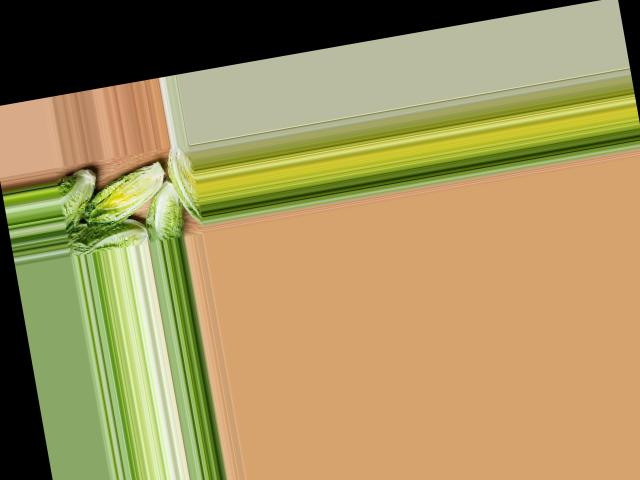lettuce: (162, 145, 204, 227)
